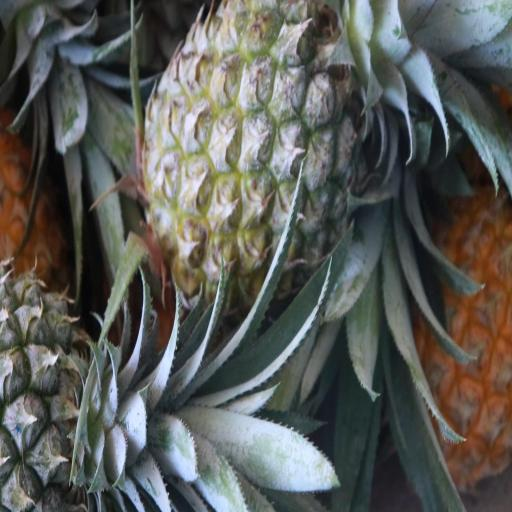------------------------------: (144, 0, 363, 310)
Pineapple - v8 v1: (407, 189, 511, 486)
